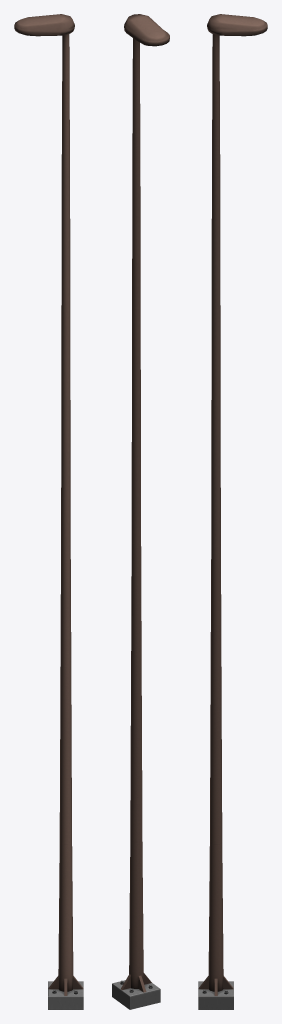
Rendered from Preset_StreetLightE.fbx.
The picture shows the model from 3 angles, left to right: view 1: azimuth 90°, elevation 25°; view 2: azimuth 210°, elevation 25°; view 3: azimuth 270°, elevation 25°; orthographic projection.
Visible parts, largest first — view 1: BodyVD, BodyHD, Base; view 2: BodyVD, Base, BodyHD; view 3: BodyVD, BodyHD, Base.
Boxes of the visible parts, box(x1,y1,x2,y2) form: BodyVD: box(58, 34, 73, 991); BodyHD: box(14, 14, 74, 36); Base: box(48, 976, 83, 1009); BodyVD: box(129, 38, 143, 988); Base: box(112, 973, 160, 1009); BodyHD: box(124, 14, 169, 46); BodyVD: box(208, 34, 223, 991); BodyHD: box(207, 14, 267, 36); Base: box(198, 976, 233, 1009).
Bounding box in the file's own units: 41.39 × 80.65 × 1262.
3 materials, 3 textured.
